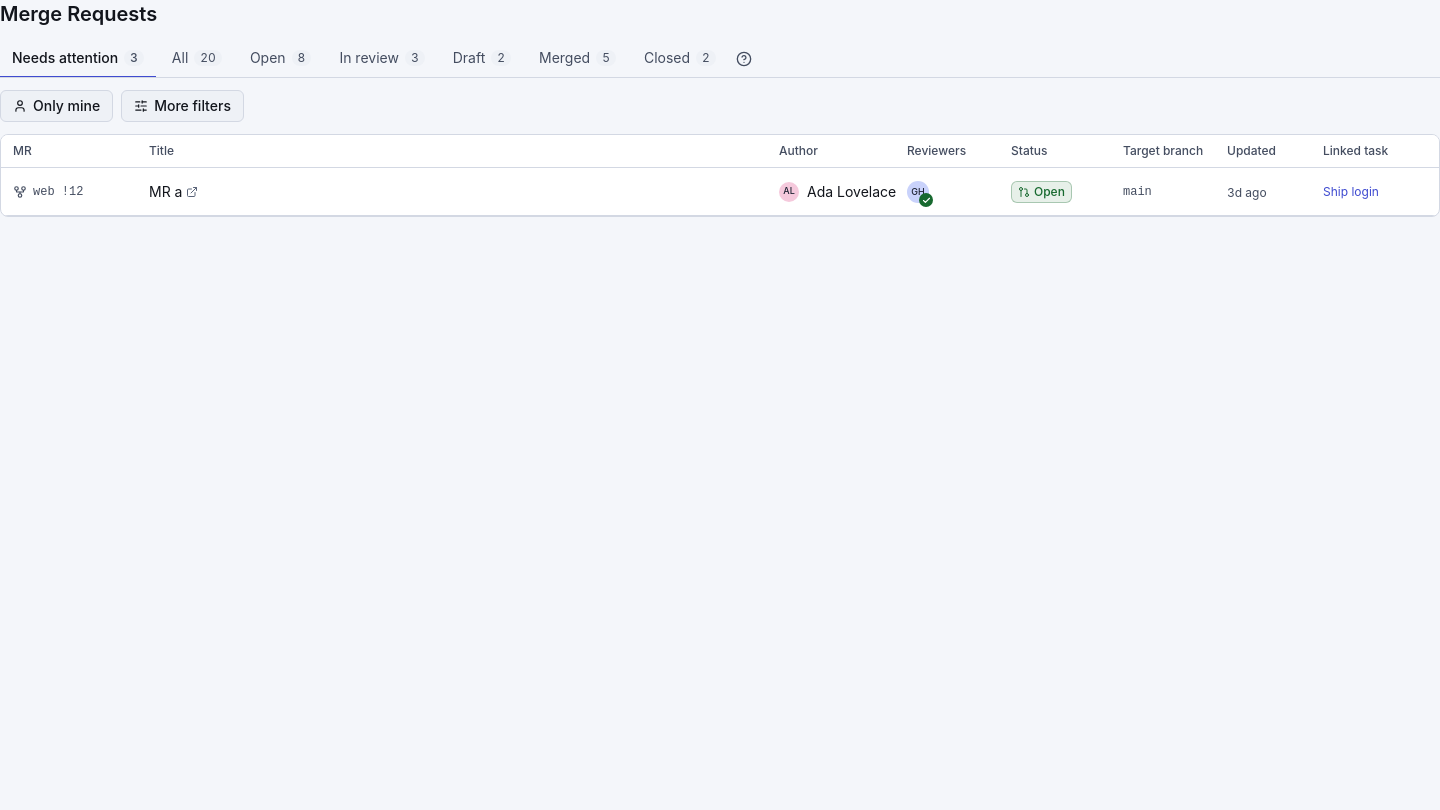
MergeRequestsPage › applies Only mine with the remembered person, and asks who you are first
Expected: the text "MR a" is shown, x1=149 y1=182 x2=182 y2=202
Click the button "Only mine": (57, 106) x1=0 y1=90 x2=113 y2=122
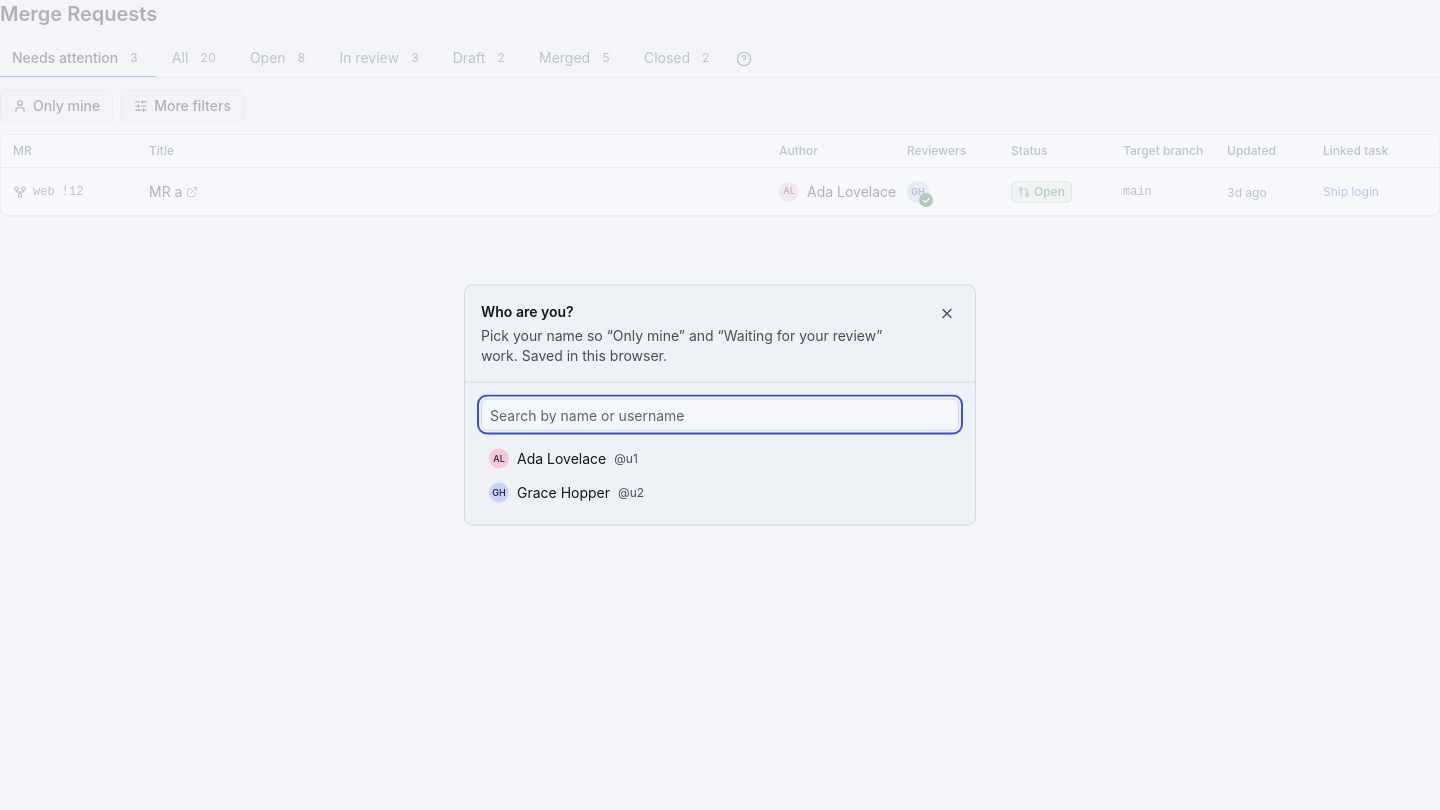
Result: the dialog "Who are you?" is shown at x1=464 y1=284 x2=976 y2=526
In the field named "Search people": (720, 414) x1=481 y1=398 x2=959 y2=430, type "grace"
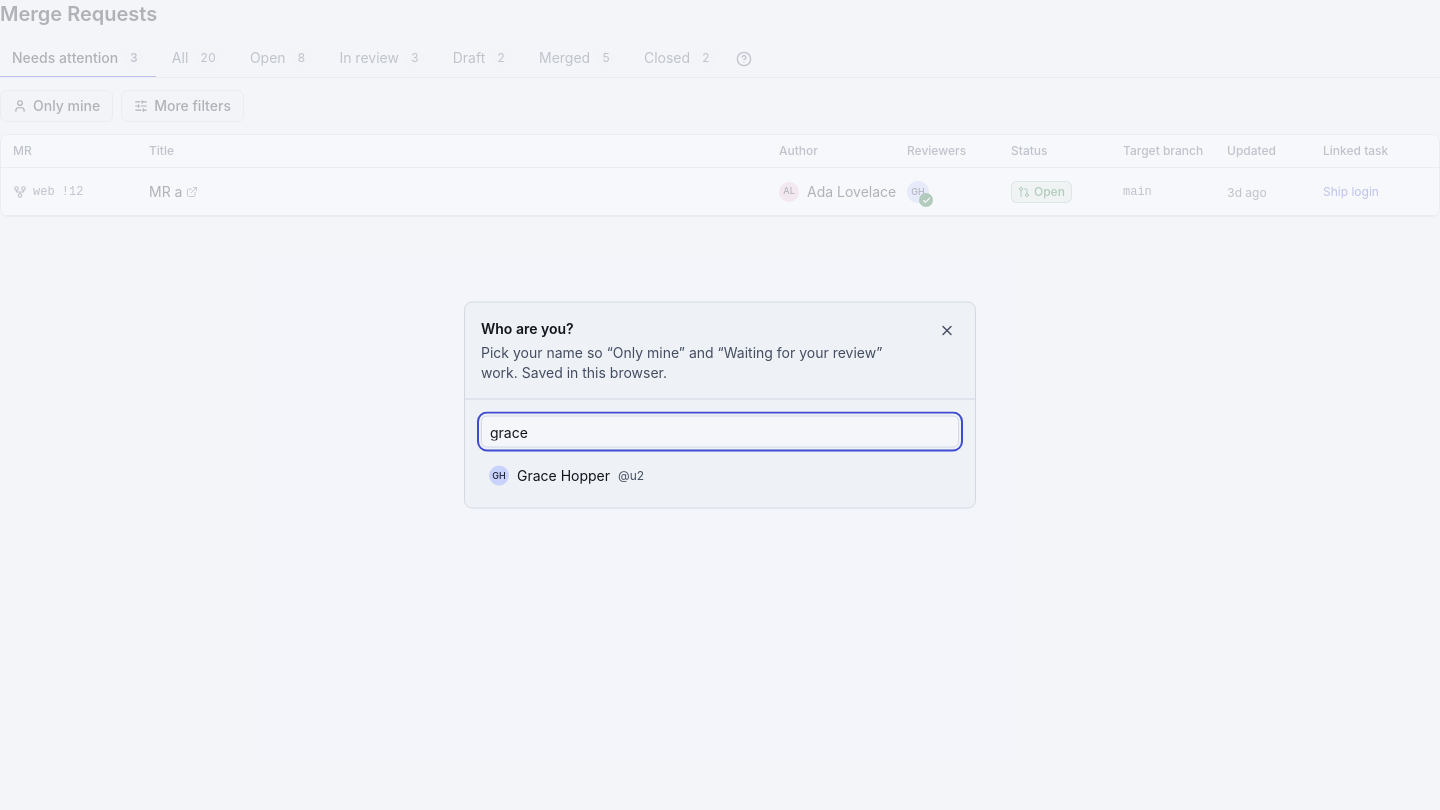
Click the button "GH Grace Hopper @u2": (564, 475) x1=481 y1=460 x2=959 y2=492
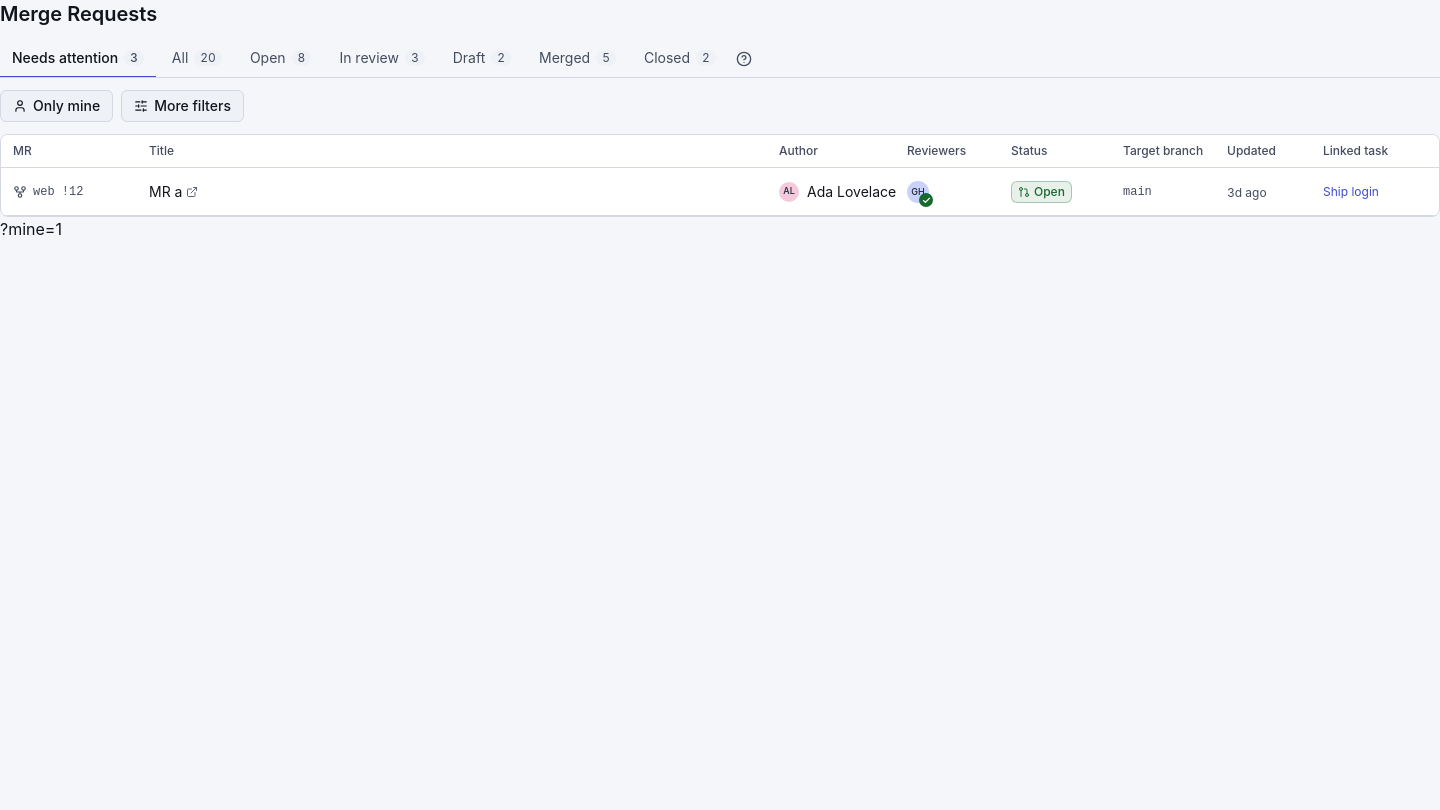
Result: the text with test id "search" reads "?mine=1" at x1=0 y1=219 x2=62 y2=239
